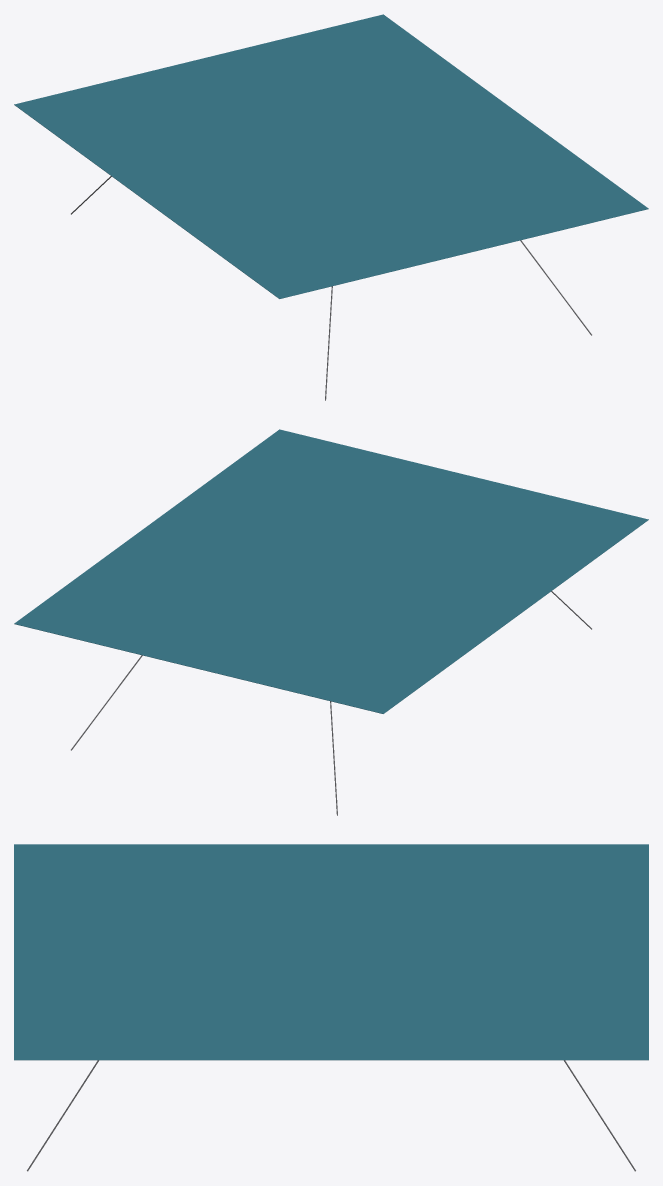
File: scene_mooring.glb
3 views of the same model, one above another, from view 1: azimuth 30°, elevation 25°; view 2: azimuth 150°, elevation 25°; view 3: azimuth 270°, elevation 25° (orthographic). The views are drawn at different scales.
Visible parts, largest first — view 1: scene_mooring; view 2: scene_mooring; view 3: scene_mooring.
Part boxes in pixels (box(x1,y1,x2,y2)): scene_mooring: box(14, 14, 648, 400); scene_mooring: box(14, 429, 648, 815); scene_mooring: box(14, 844, 648, 1171).
Size of the model in its own units: 0.8032 by 0.2462 by 1.
